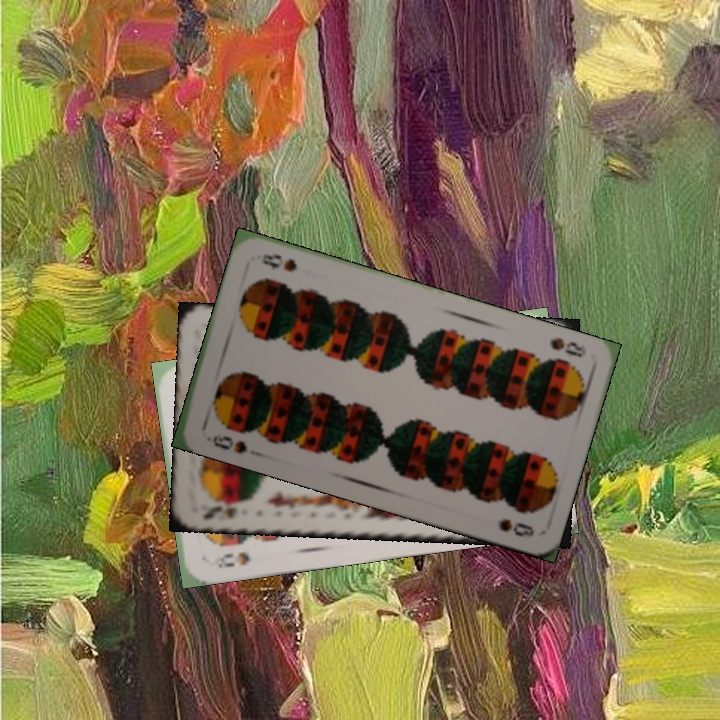S8: (203, 429, 250, 456), (204, 547, 252, 571), (546, 333, 586, 360)
SK: (199, 497, 249, 523)
